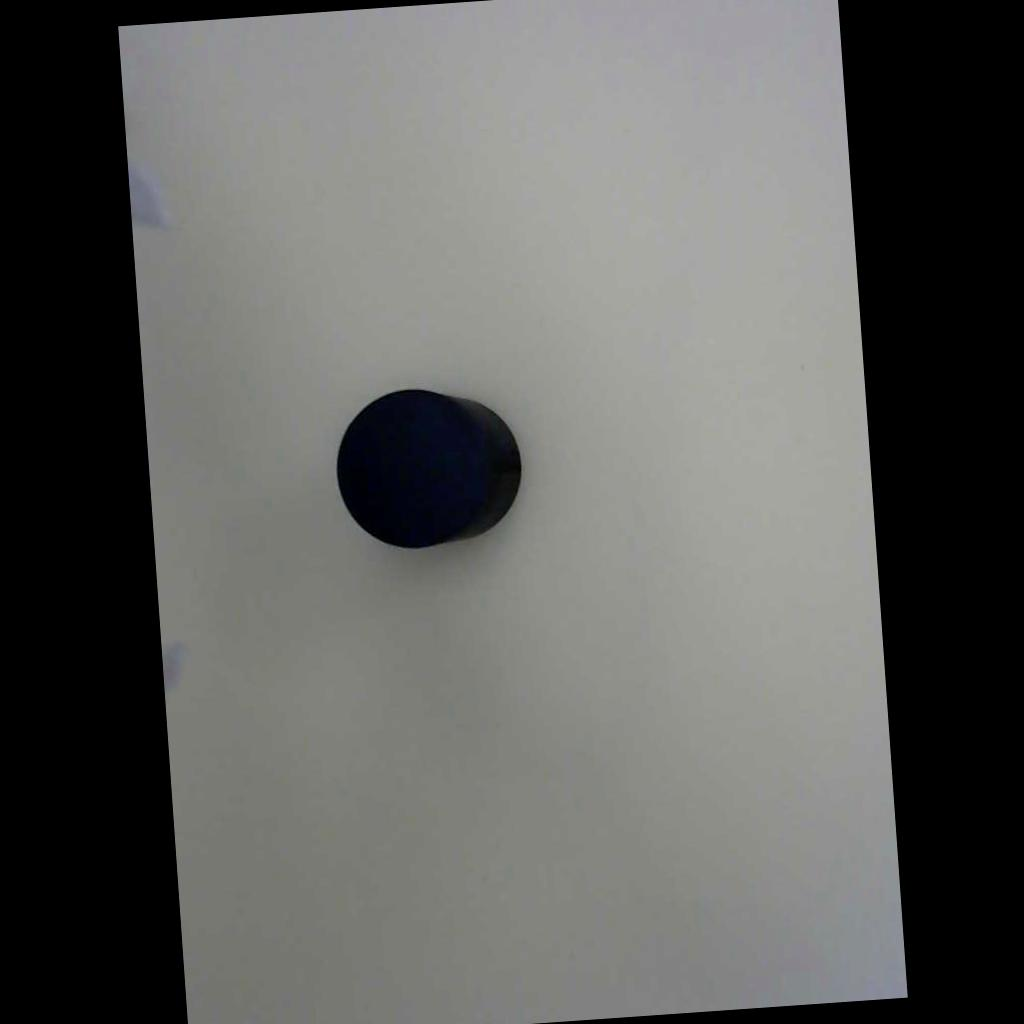circle: (328, 378, 531, 558)
